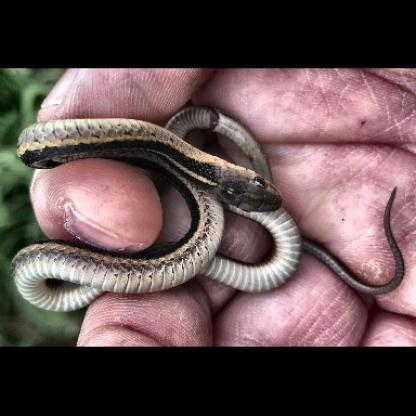Snake: (6, 100, 403, 318)
